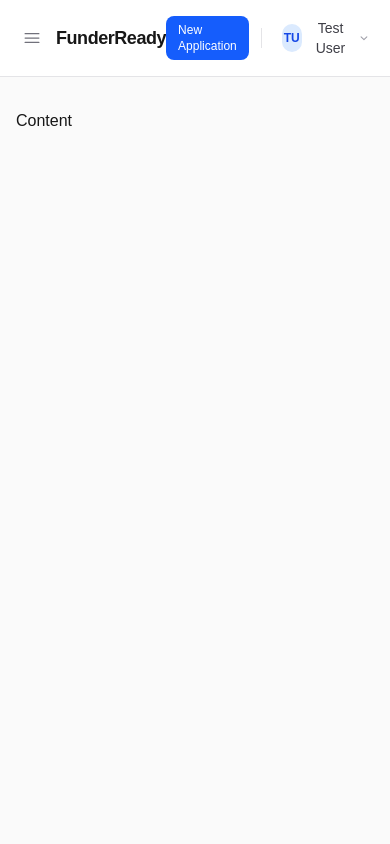
it: DashboardShell › toggles sidebar open on hamburger click
Click the button named "Toggle menu". click: (32, 38)
box: [16,22,48,54]
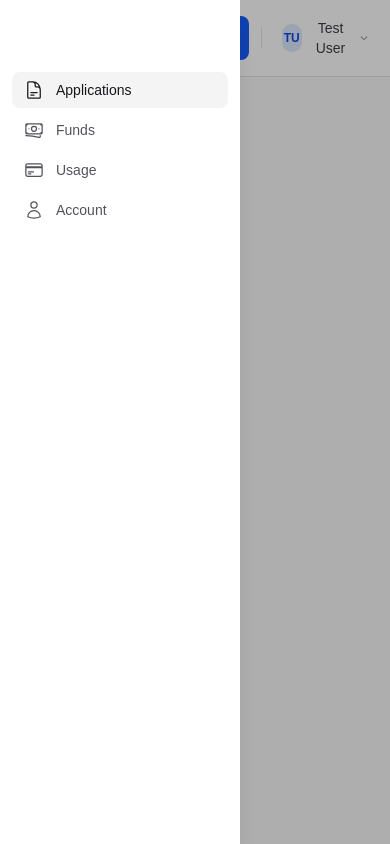
Result: the element with class "inset-0" is shown
